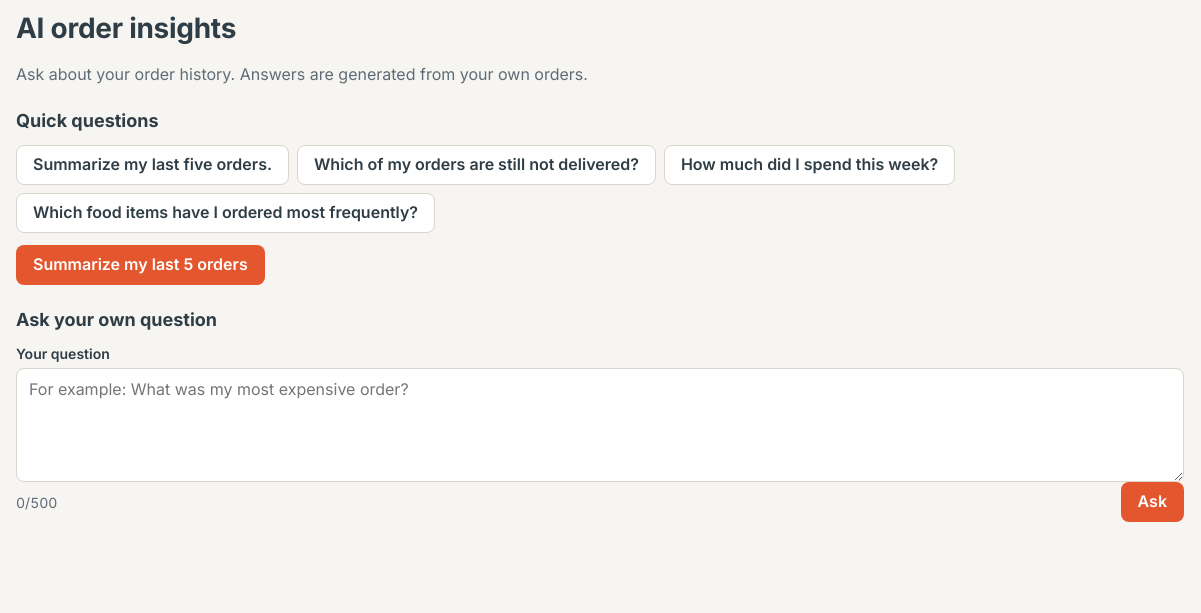
Test: AIInsights › shows the 502 and 503 messages
The image size is (1201, 613).
Click the button "How much did I spend this week?": (810, 164) 664,144 -> 955,184
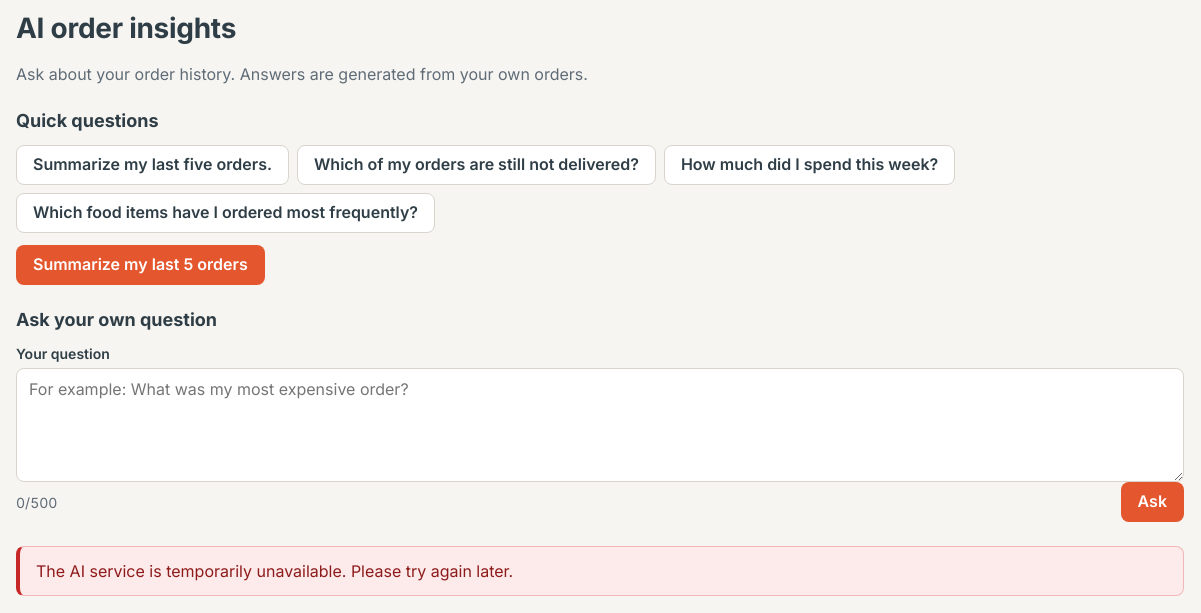
Check: the text "AI service is temporarily unavailable" is shown, box 36,561 -> 513,581
Click the button "How much did I spend this week?": (810, 164) 664,144 -> 955,184
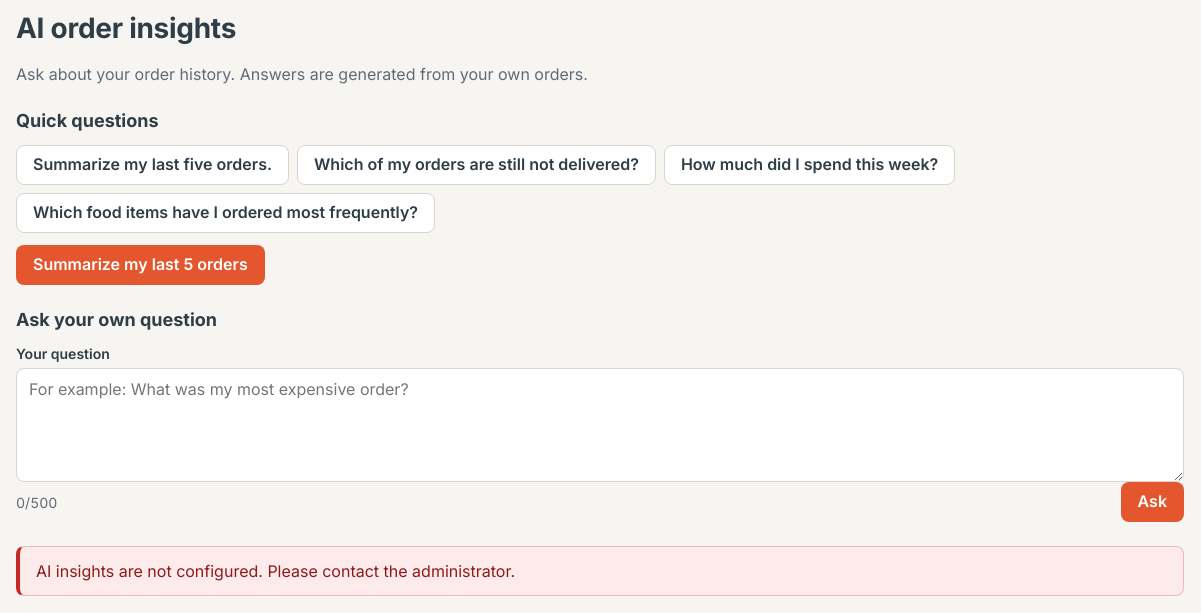
Check: the text "not configured" is shown, box 36,561 -> 515,581
